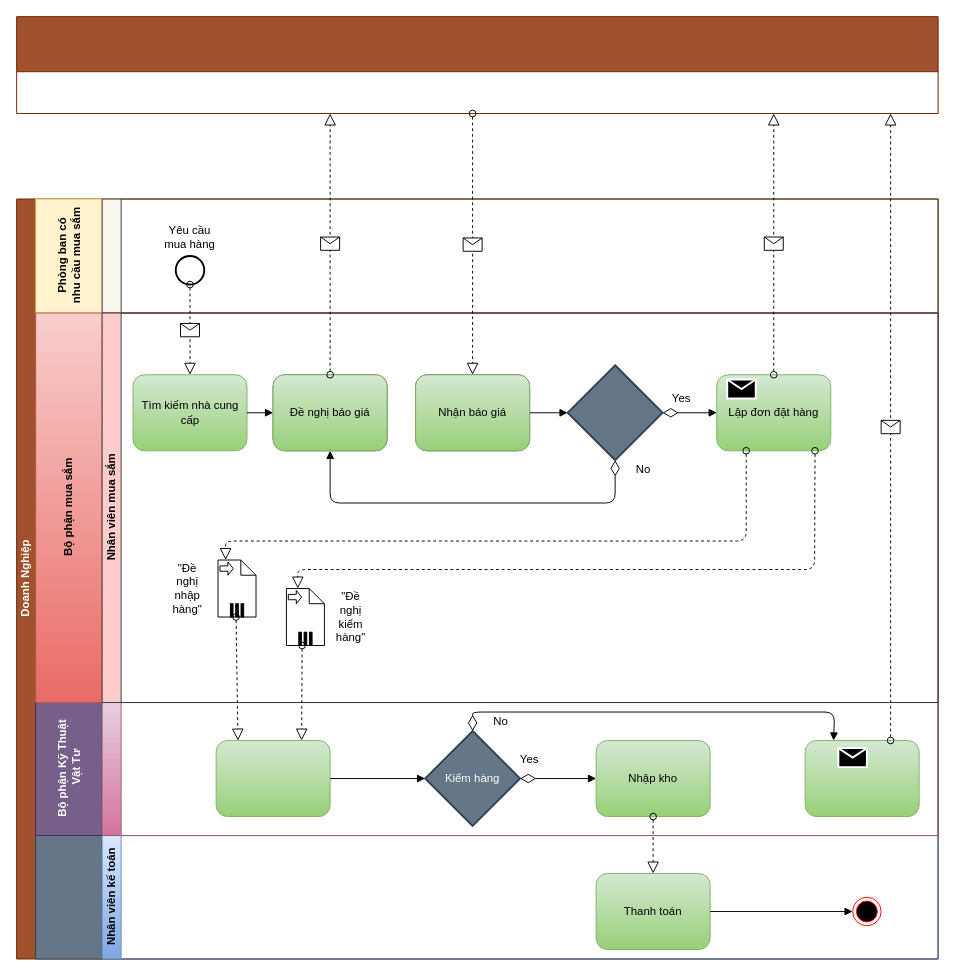
Some shapes in this 955 by 976 pixel diagram are drawn without their labels. The shapes that lost their labels are listed below. From the top down, each one's box as (x1, y1, x2, y2) in pixels, then its label:
(16, 16, 938, 114): Nhà Cung Cấp
(101, 198, 938, 313): Trưởng phòng
(566, 364, 663, 461): Phê duyệt báo giá
(215, 740, 330, 817): Nhận hàng
(101, 702, 938, 836): Nhân viên kiểm kho
(804, 740, 919, 817): Trả hàng
(35, 835, 938, 959): Bộ phận Tài Chính Kế Toán
